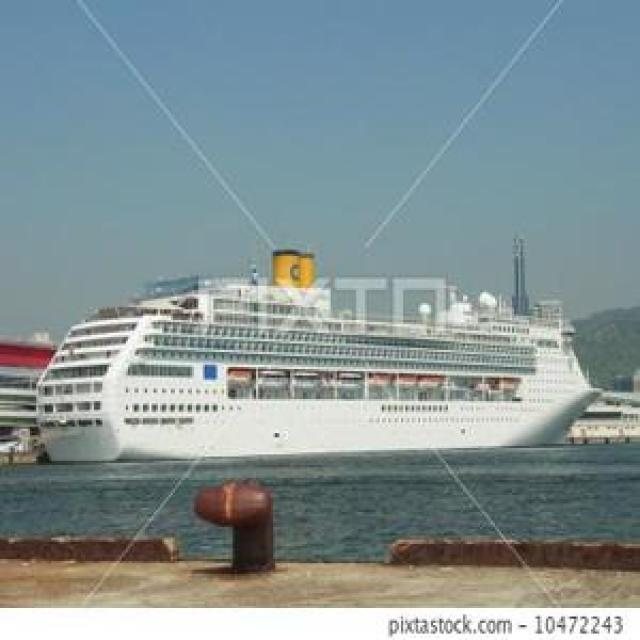passenger ship: (38, 247, 587, 456)
